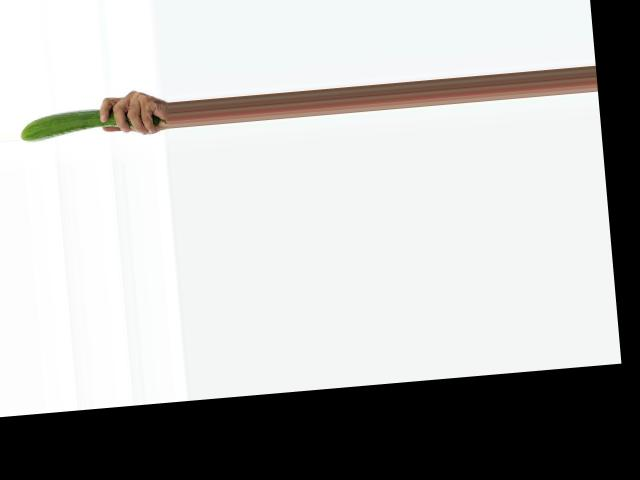cucumber: (18, 103, 165, 142)
